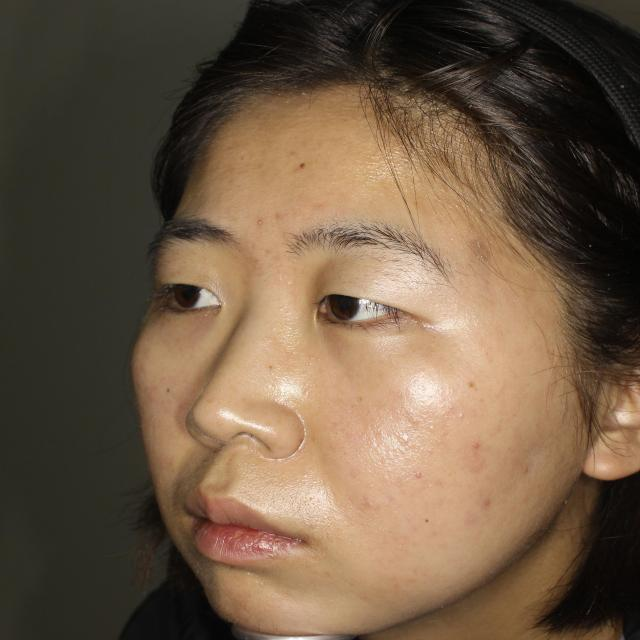comedone: (466, 432, 488, 462)
